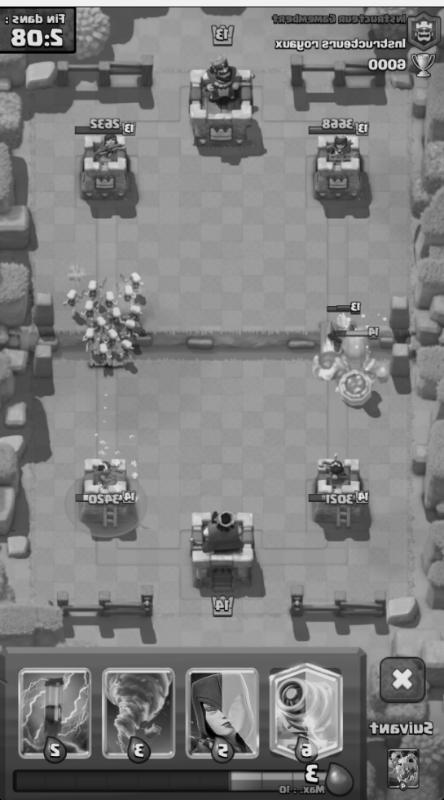squelette: (79, 301, 95, 324), (118, 339, 132, 359), (82, 327, 95, 347), (96, 344, 109, 362), (121, 286, 134, 304), (87, 279, 101, 295), (129, 272, 142, 289), (129, 304, 142, 321), (68, 289, 79, 309), (105, 287, 114, 308), (123, 319, 134, 335), (106, 328, 118, 342), (110, 307, 121, 321), (97, 314, 106, 327)
